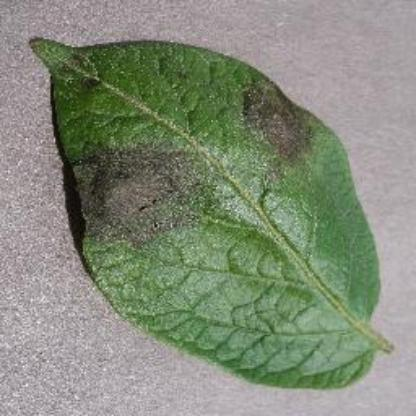Late-Blight: (30, 12, 393, 392)
